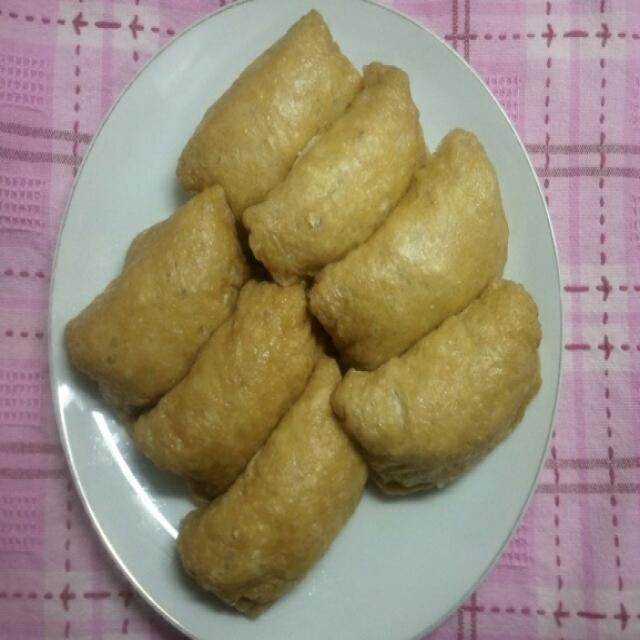寿司卷物: (46, 7, 562, 612)
